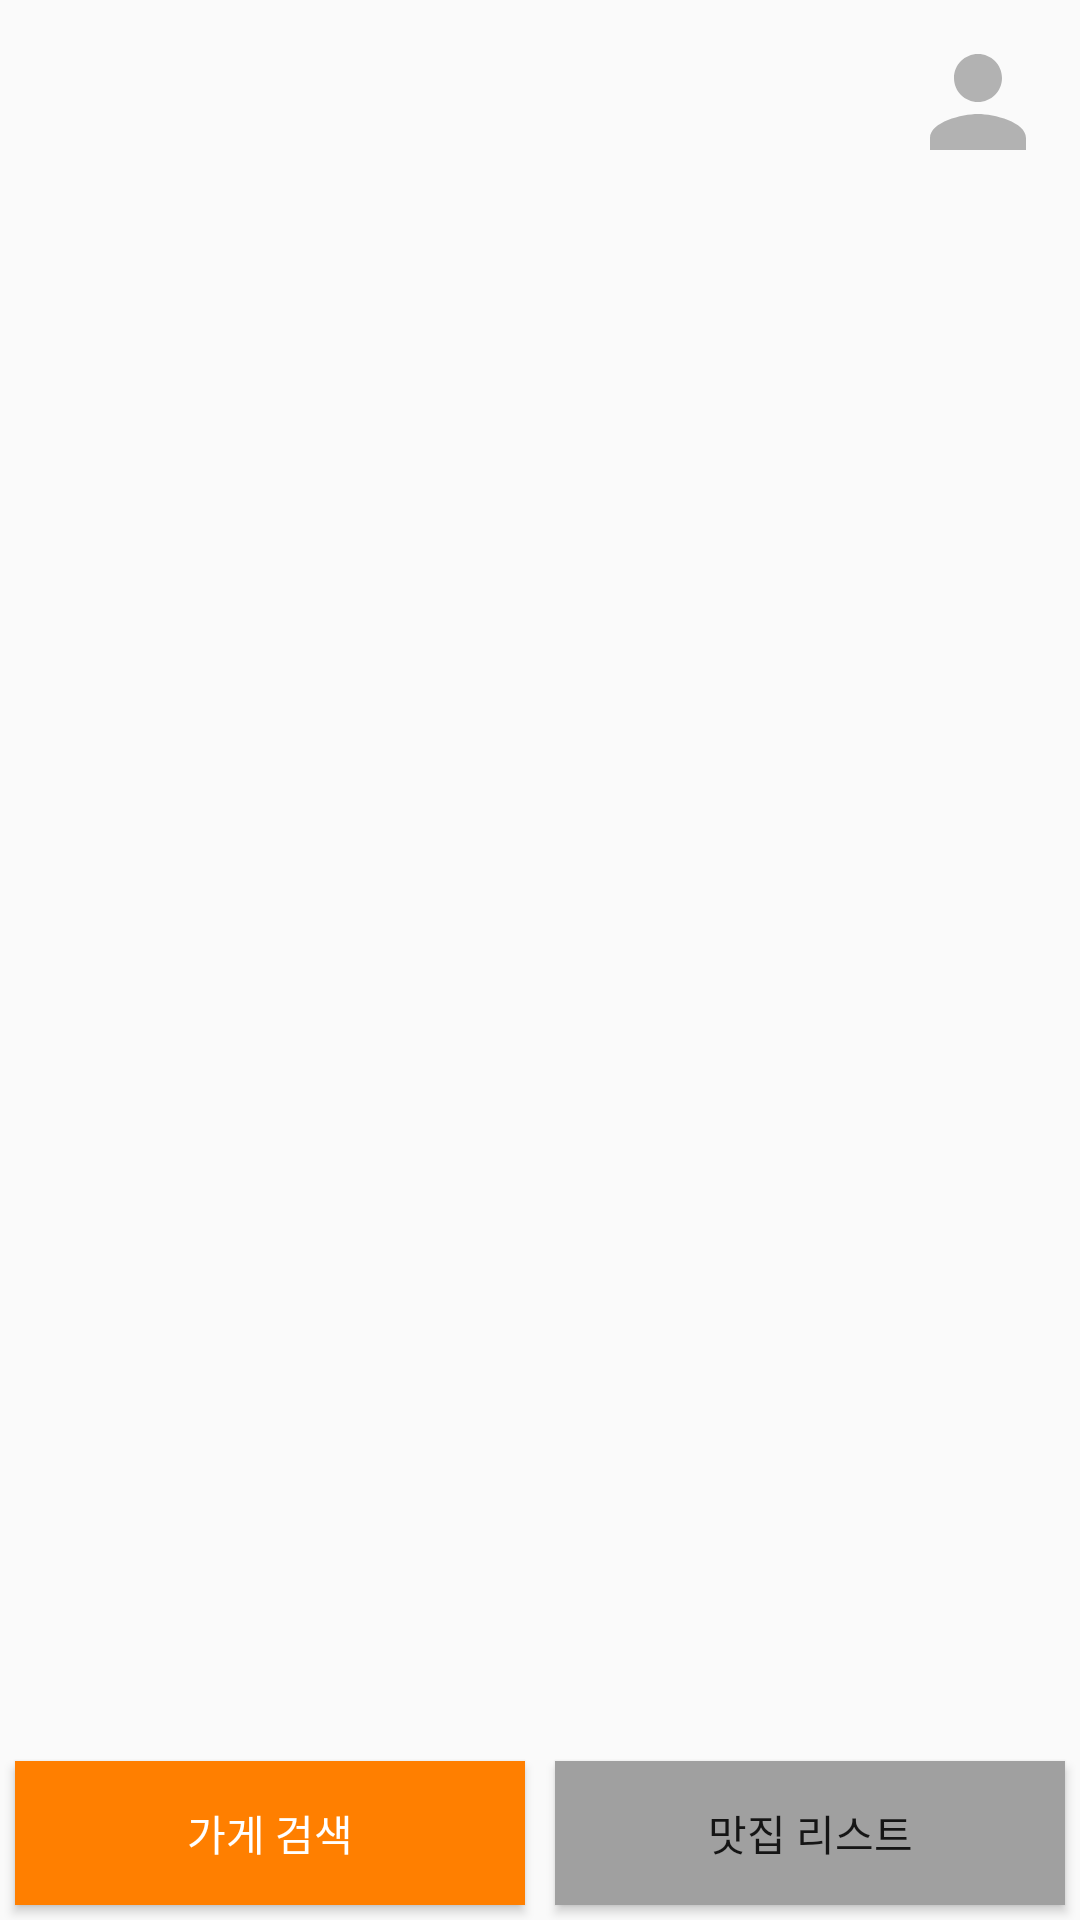

Where icons sit on this 1080x1920 app screen, as region(x1, y1, x2, y2):
person: region(930, 54, 1026, 150)
